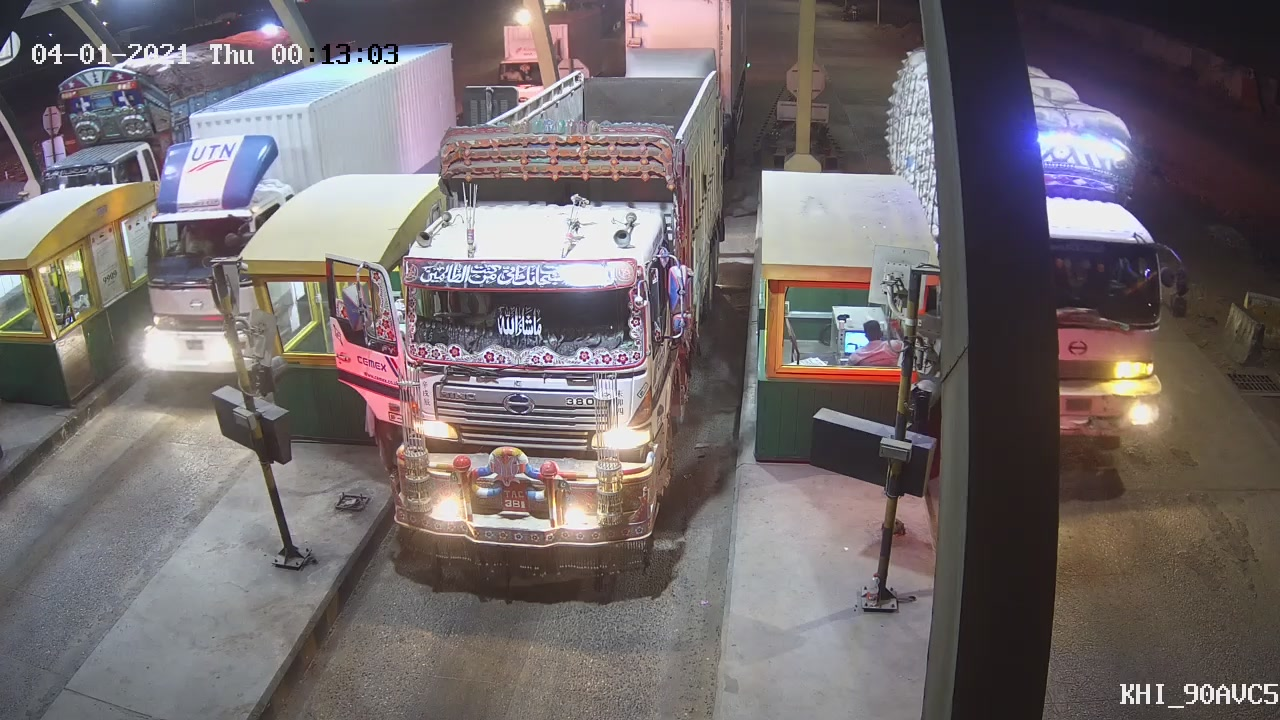F5: (356, 120, 708, 616)
